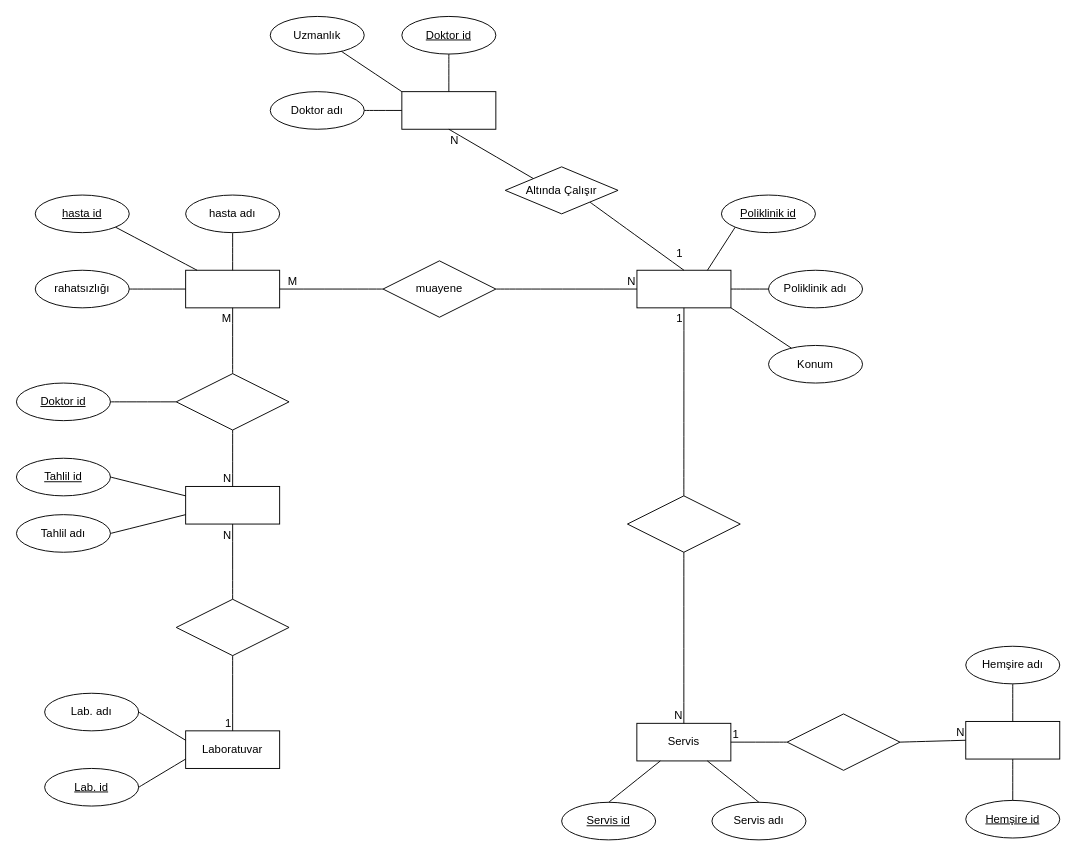
Image size: 1076x856. Some labels were removed from this diagram. The shapes that lost their labels are listed below. From the top down, each one's centre as x and y in pixels, then its label:
At [448,110]: "Doktor".
At [232,288]: "Hasta".
At [683,288]: "Poliklinik".
At [232,401]: "istenir".
At [232,505]: "Tahlil".
At [683,523]: "aittir".
At [232,627]: "Test edilir".
At [843,741]: "Çalışır".
At [1012,740]: "Hemşire".
